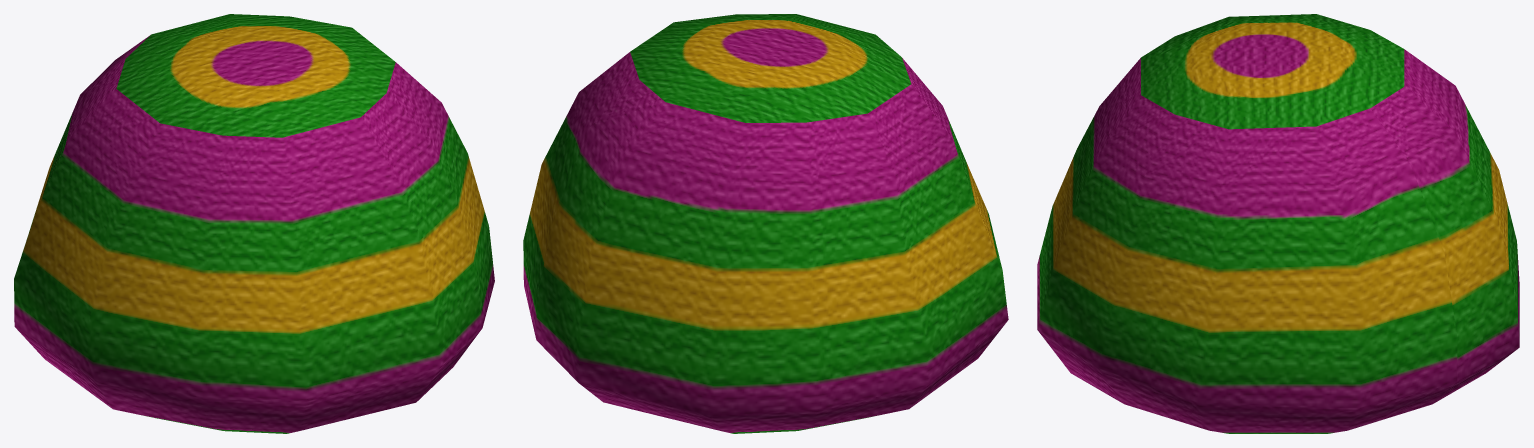
The model's file is HackeySack_PinkGreenYellow_Scaled.fbx.
The picture shows the model from 3 angles, left to right: view 1: azimuth 30°, elevation 25°; view 2: azimuth 150°, elevation 25°; view 3: azimuth 270°, elevation 25°; orthographic projection.
Visible parts, largest first — view 1: Hackey1; view 2: Hackey1; view 3: Hackey1.
Part boxes in pixels (x1,y1,x2,y2): Hackey1: (14,14,494,433); Hackey1: (523,14,1008,433); Hackey1: (1037,14,1519,433).
Bounding box in the file's own units: 8.99 × 6.98 × 9.25.
